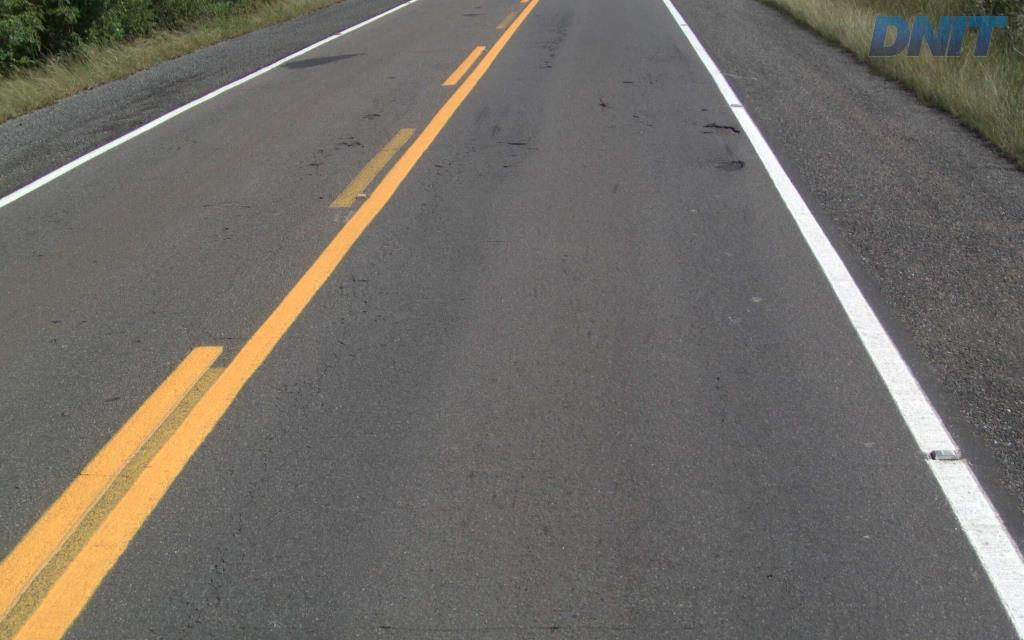pothole: (708, 157, 750, 176), (696, 122, 738, 136)
